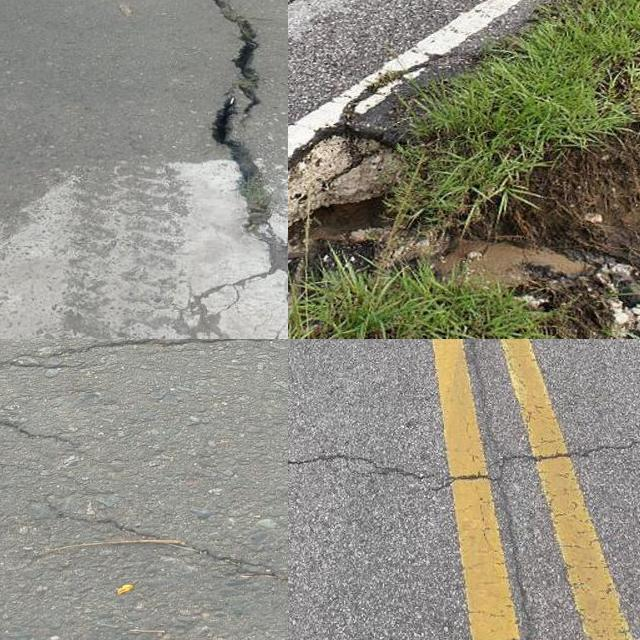Melintang: (288, 424, 640, 501), (43, 495, 288, 594), (0, 339, 288, 380)
Memanjang: (199, 0, 288, 339)
Pinggir: (288, 119, 557, 339)
